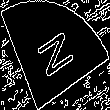N_SW: (31, 26, 79, 84)
